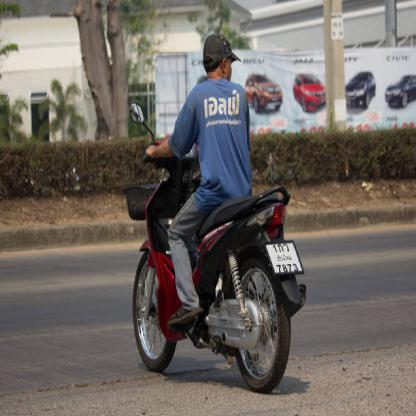Motorcycle: (116, 109, 300, 397)
